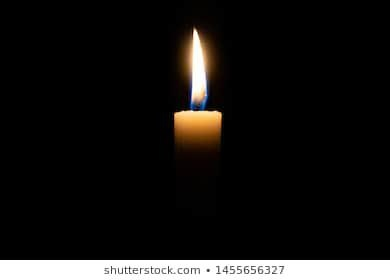fire: (186, 25, 208, 109)
